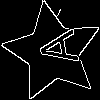A: (28, 27, 79, 70)
